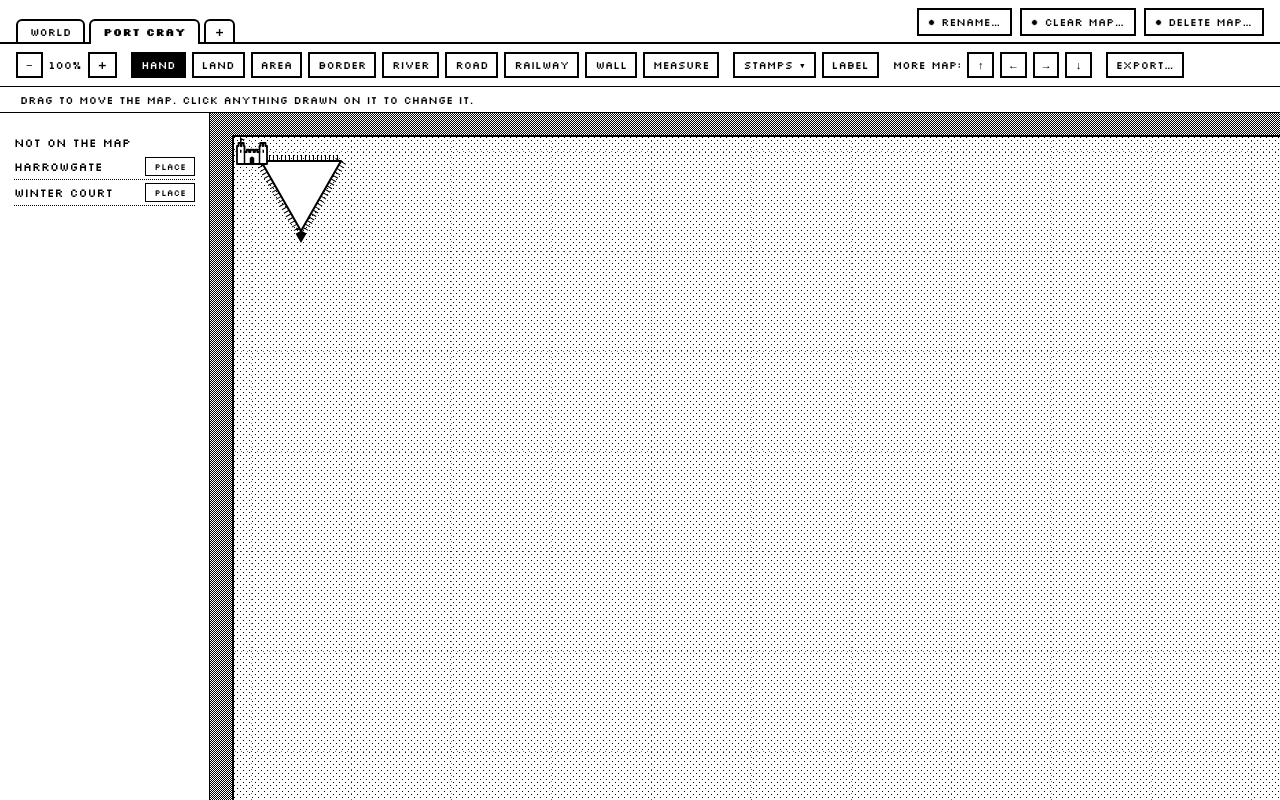
Test: the tabs › confirms a clear, says what goes, and leaves Cancel the safe default
Click the button "Clear Map…" at (1078,22), box [1020, 8, 1136, 36]
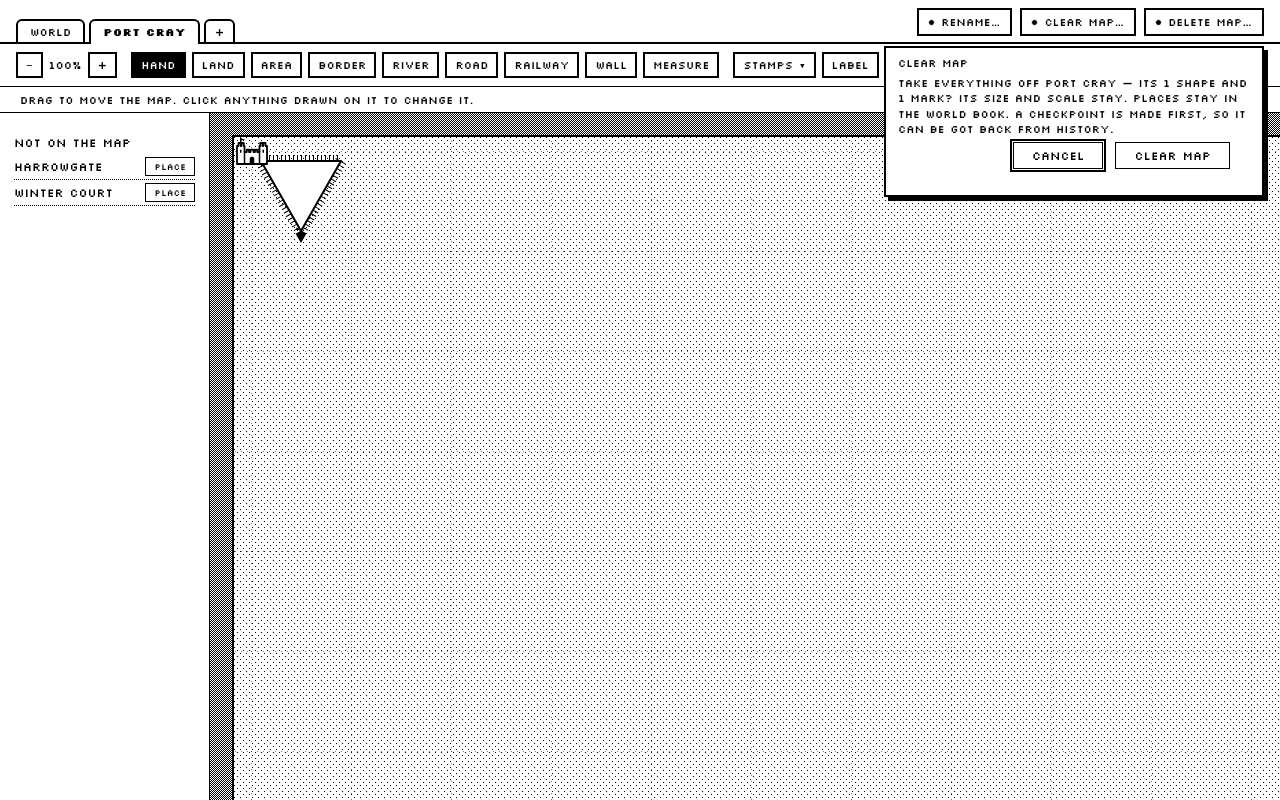
Expected: the dialog named "Clear Port Cray" shows "its 1 shape and 1 mark?", [898, 76, 1247, 136]
Expected: the dialog named "Clear Port Cray" shows "checkpoint is made first", [898, 76, 1247, 136]
Expected: the button "Cancel" is shown
Click the button "Cancel" at (1058,155), box [1013, 142, 1104, 169]
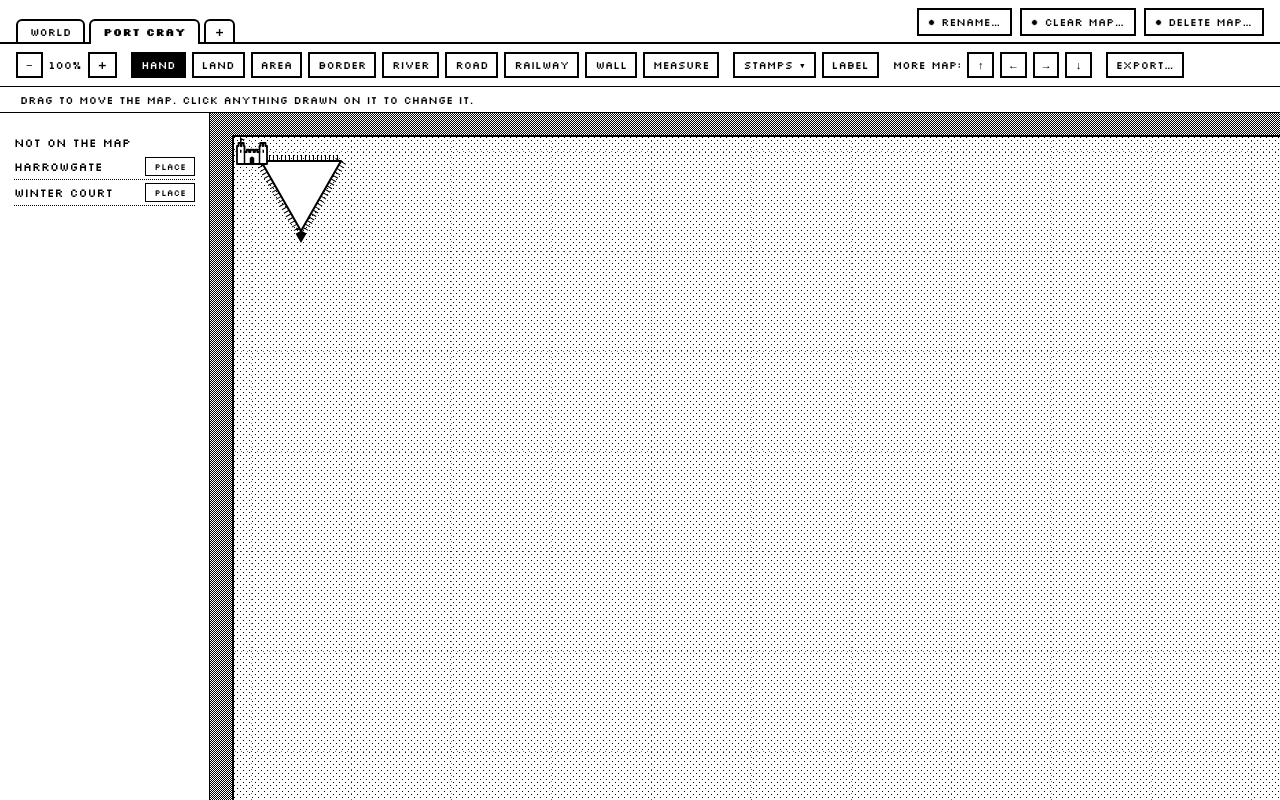
Click the button "Clear Map…" at (1078,22), box [1020, 8, 1136, 36]
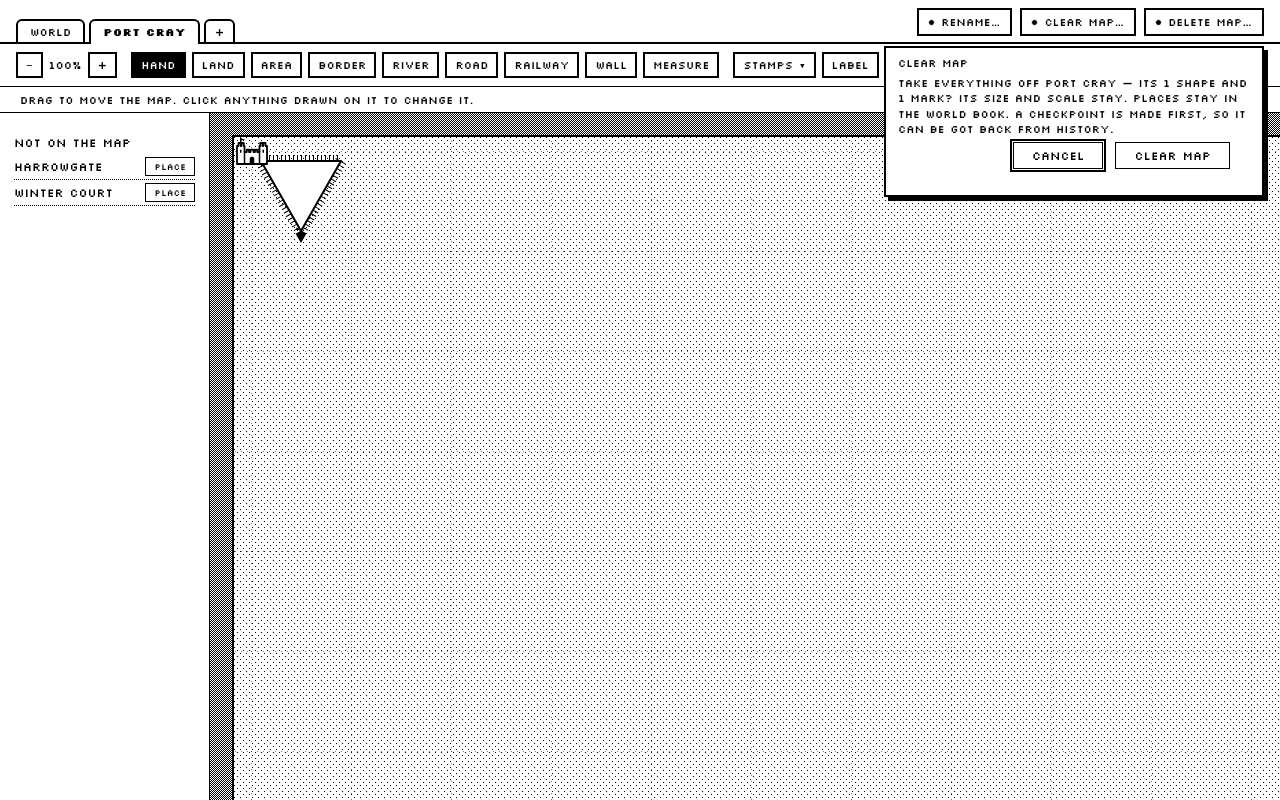
Click the button "Clear Map" at (1173,155), box [1116, 142, 1230, 169]
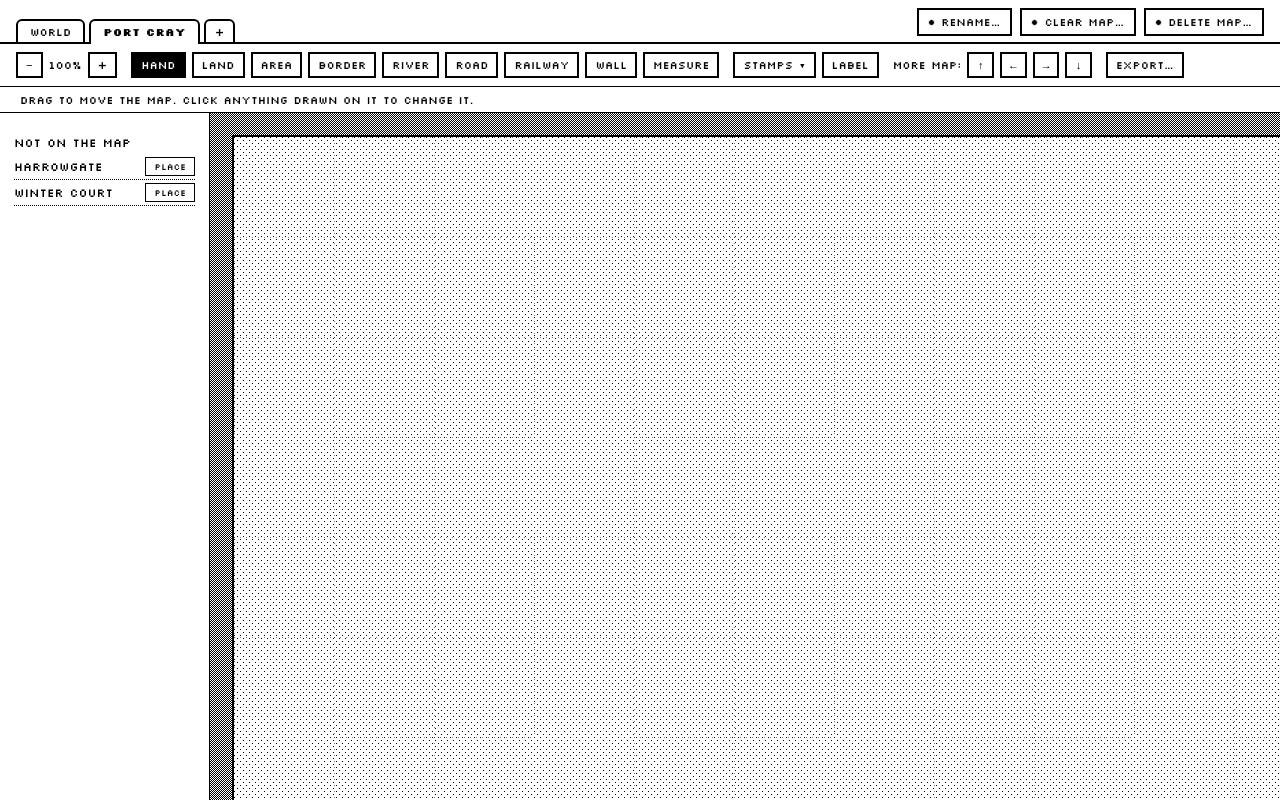
Expected: the button "Clear Map…" is shown, [1020, 8, 1136, 36]
Expected: the dialog is gone
